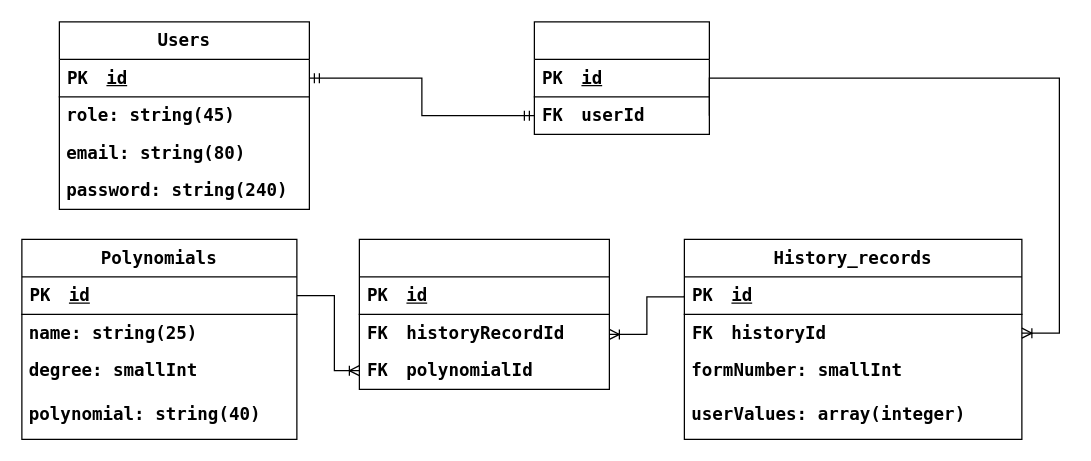
Image size: 1091x461. Some labels were removed from this diagram. The shapes that lost their labels are listed below. From the top down, each one's box as (x1, y1, x2, y2) in pixels, then its label:
(533, 21, 709, 134): Histories
(358, 238, 609, 389): History_polynomials
